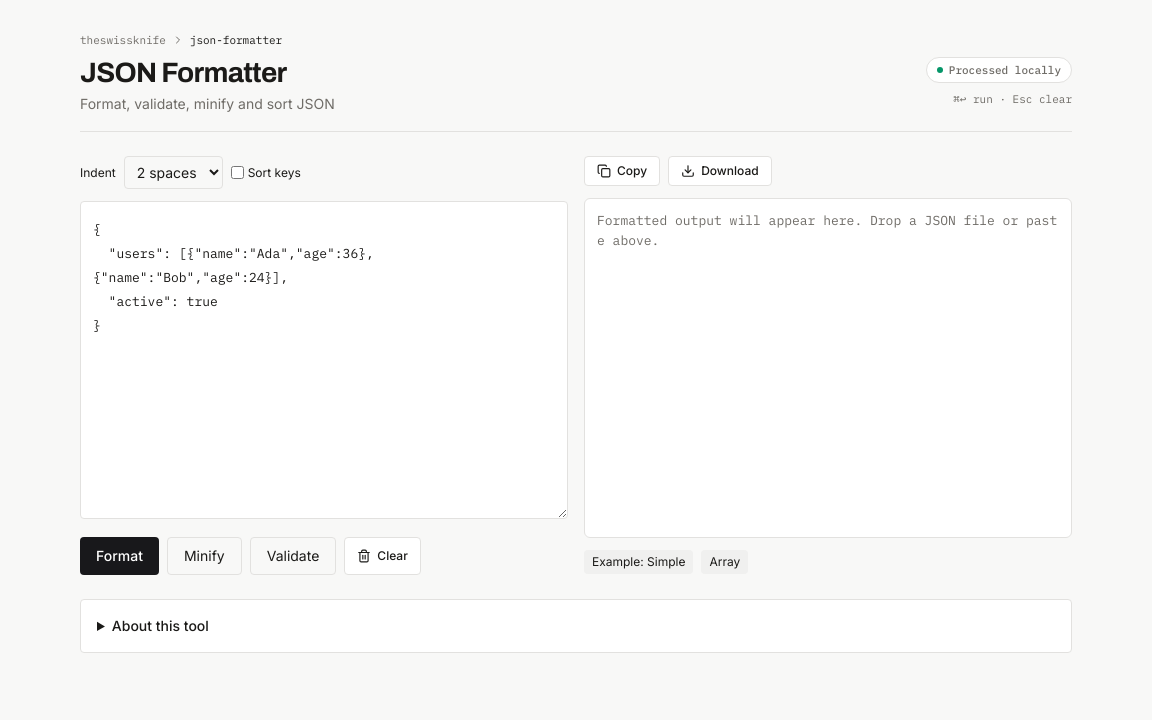
JSON Formatter › clear button
The image size is (1152, 720).
Click the button "Clear" at {"x": 383, "y": 556}, box [344,537,421,575]
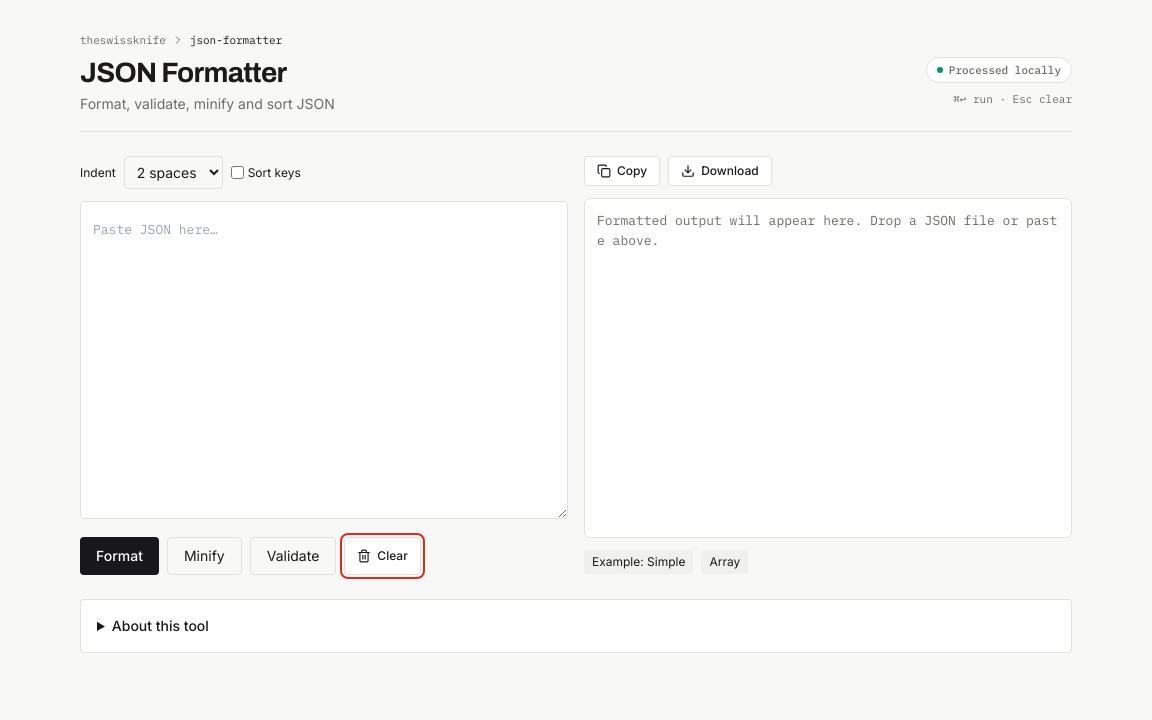
Result: the text box with placeholder "Paste JSON here…" is empty at [80,201,568,519]
